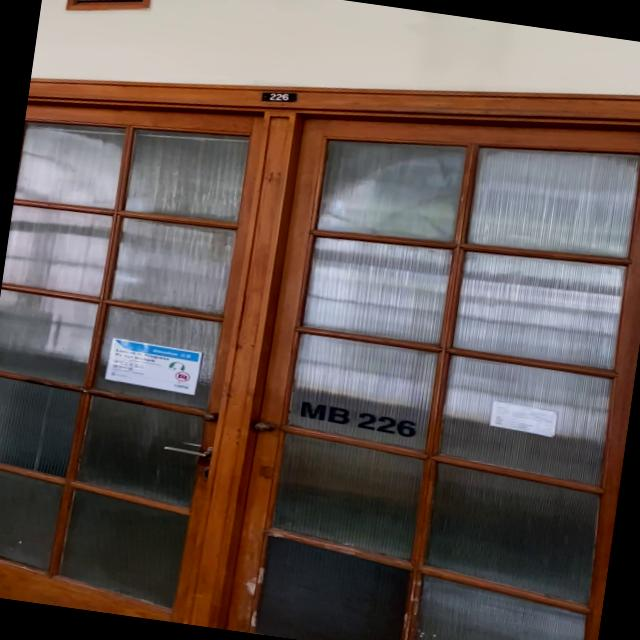room226: (260, 85, 300, 106)
room226Window: (294, 396, 424, 441)
